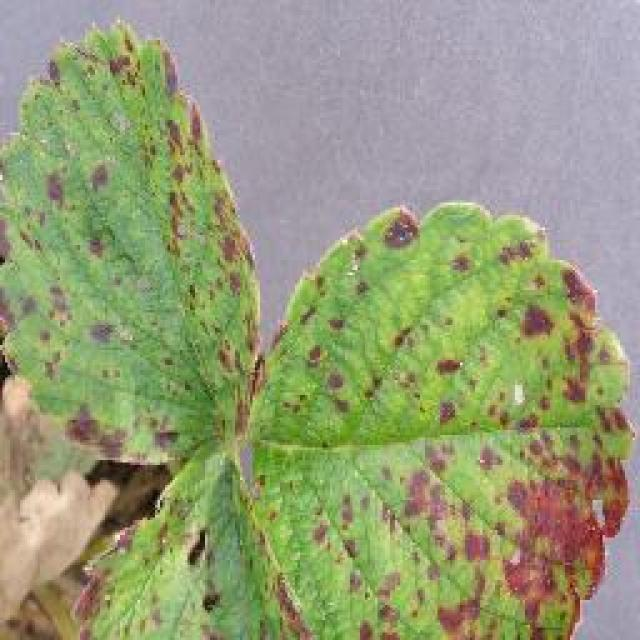Strawberry leaf scorch: (26, 142, 576, 610)
